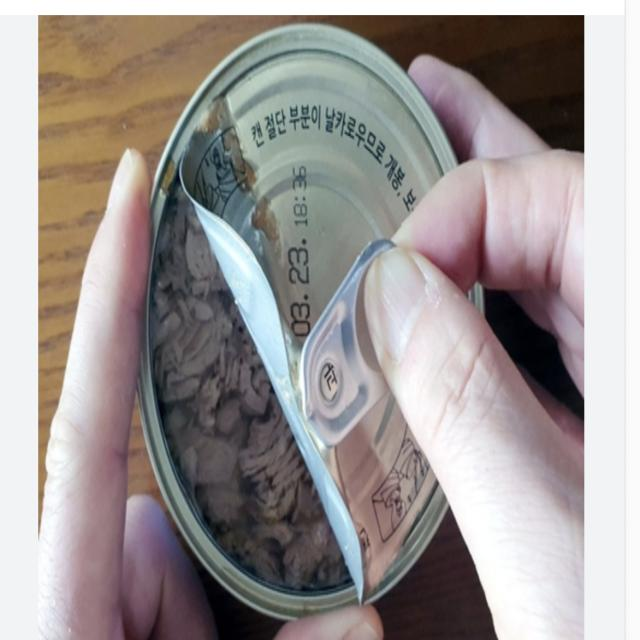recyclable: (121, 21, 510, 627)
